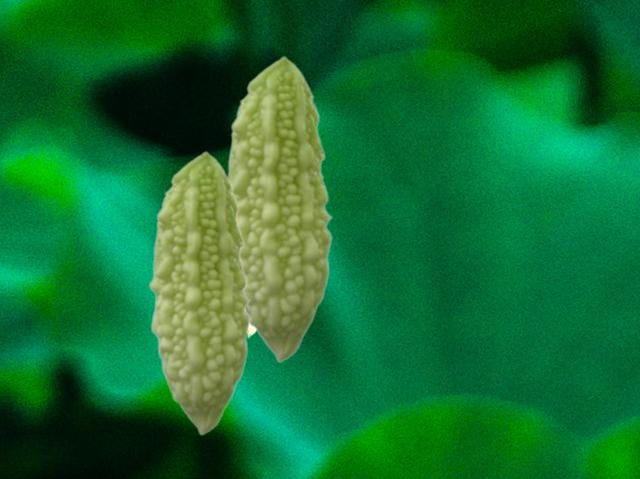ampalaya: (225, 55, 334, 363), (146, 150, 252, 435)
